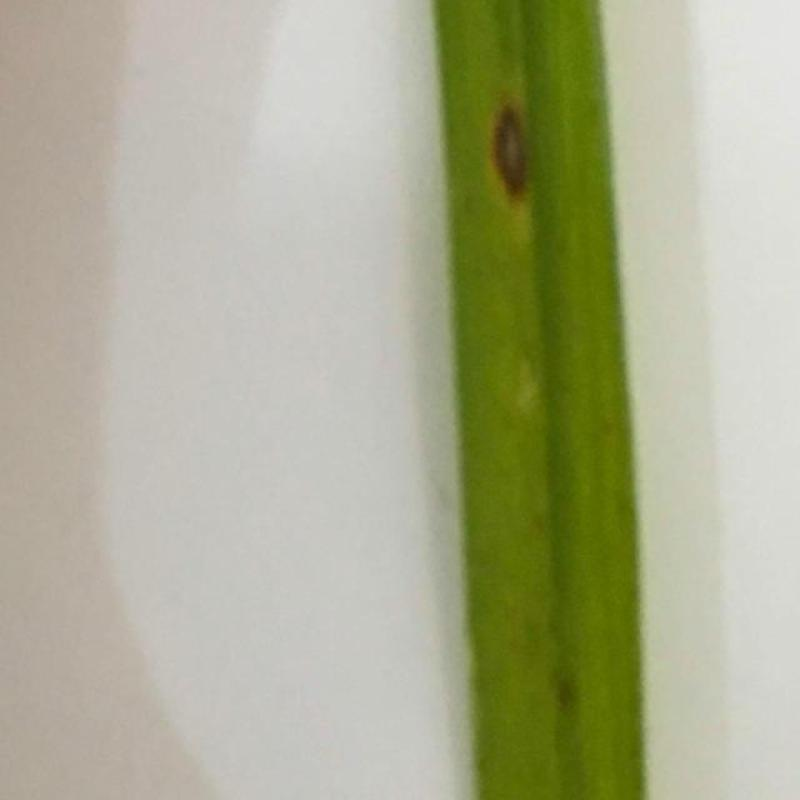Leaf_Blast: (465, 12, 589, 324)
